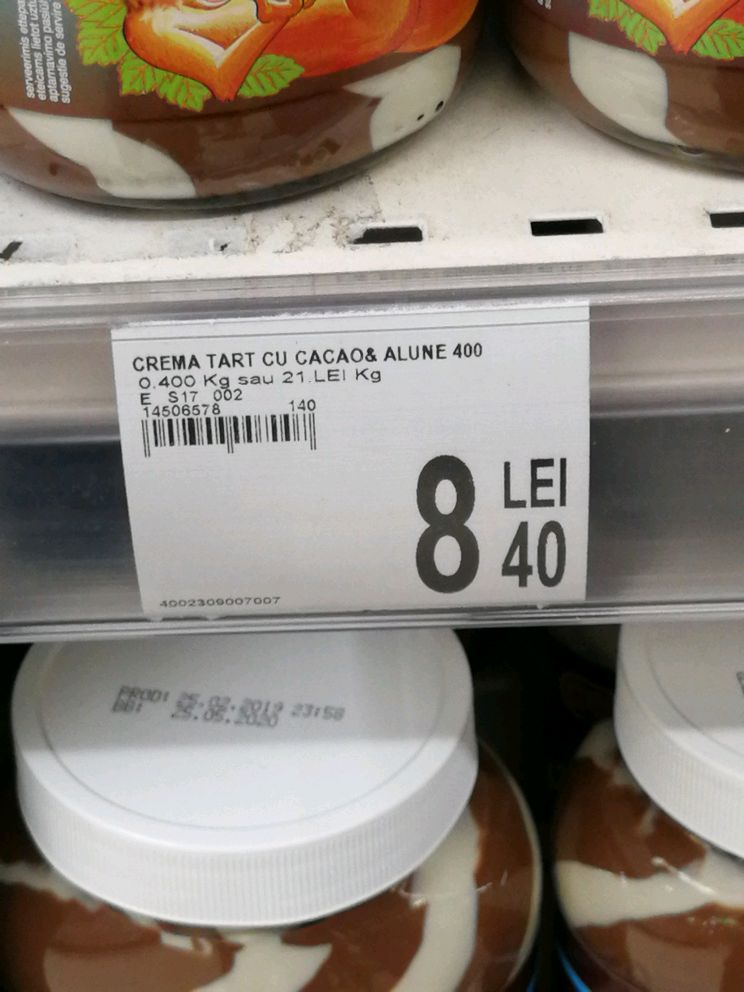bardcode: (151, 590, 292, 611)
list: (102, 297, 604, 619)
name: (129, 340, 492, 373)
price: (411, 446, 576, 599)
